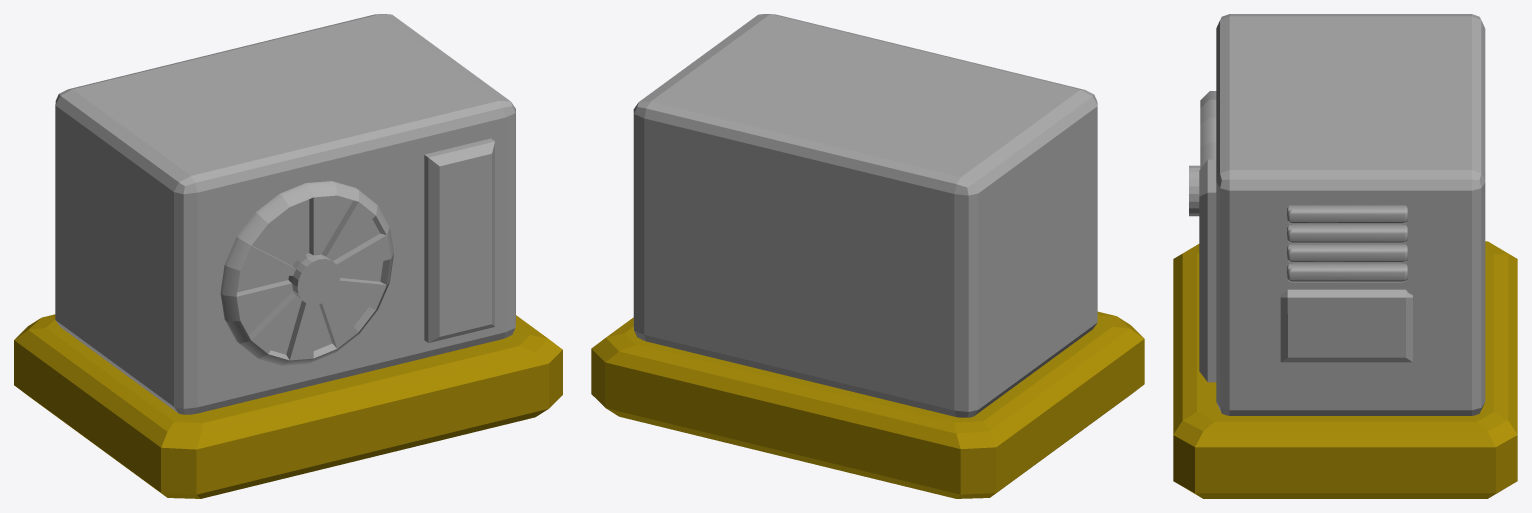
The model's file is 3D-TemperatureManager1.fbx.
3 renders of one model, left to right at view 1: azimuth 30°, elevation 25°; view 2: azimuth 150°, elevation 25°; view 3: azimuth 270°, elevation 25°, orthographic. The views are drawn at different scales.
Parts seen in each view (by area): view 1: polySurface281; view 2: polySurface281; view 3: polySurface281.
Part boxes in pixels (left/top/right/bottom): polySurface281: left=14, top=14, right=562, bottom=498; polySurface281: left=591, top=14, right=1144, bottom=498; polySurface281: left=1173, top=14, right=1517, bottom=498.
Size of the model in its own units: 352 by 257 by 256.
